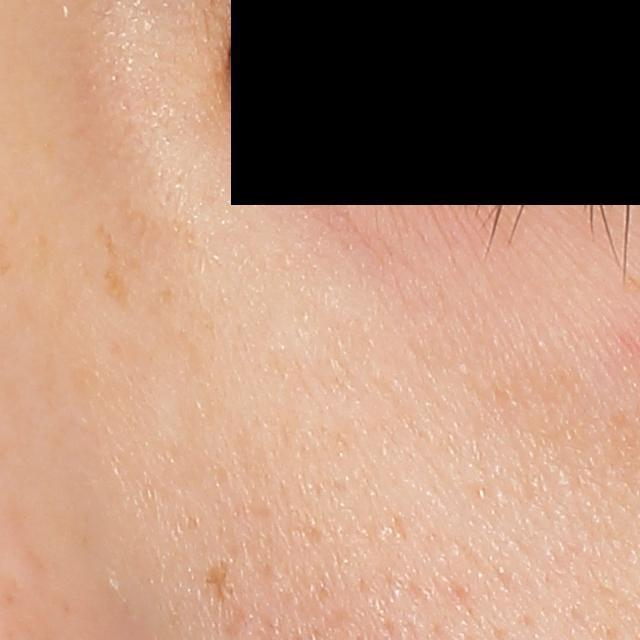melasma: (94, 219, 141, 323), (201, 555, 235, 605)
